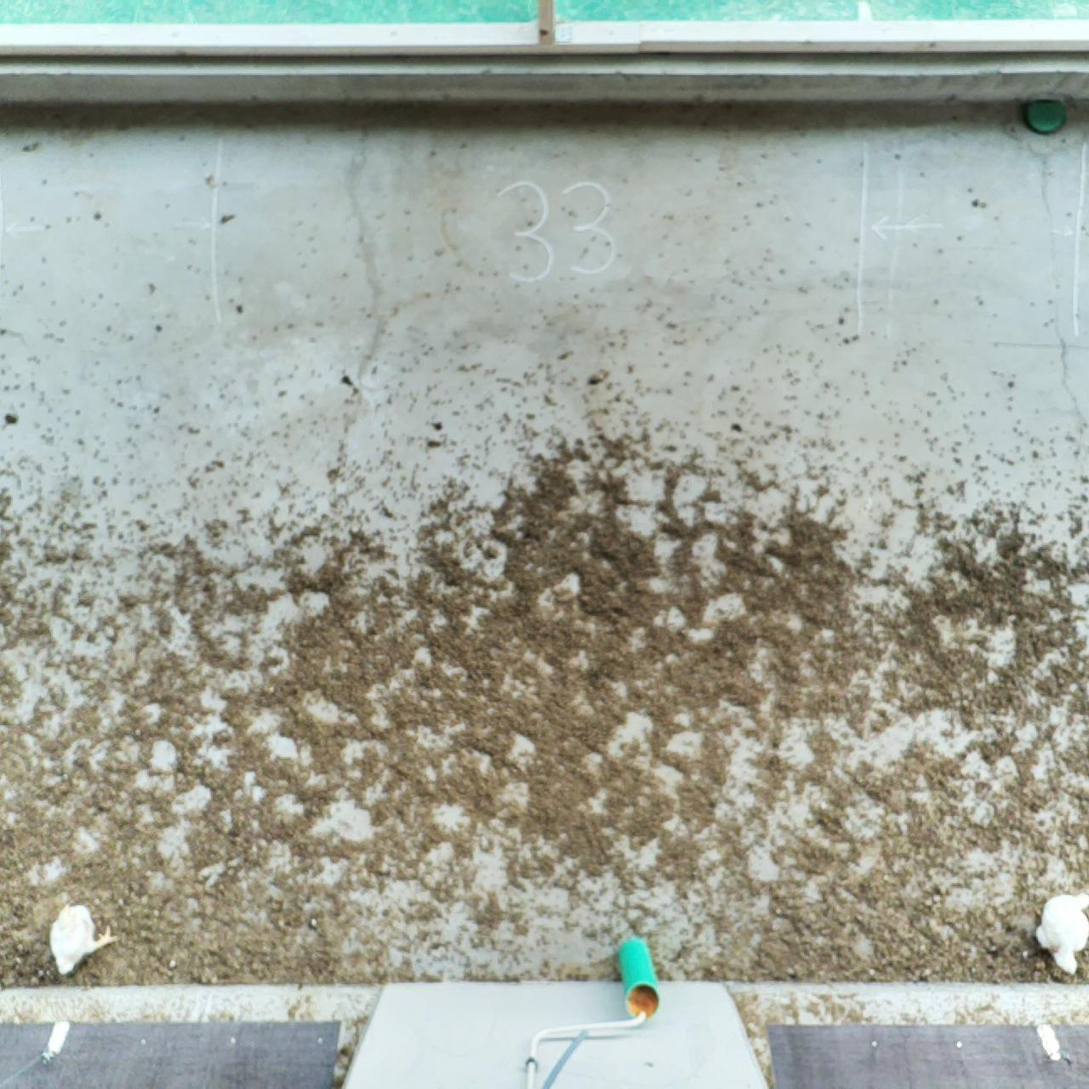chicken: (43, 899, 121, 976), (1029, 885, 1089, 979)
